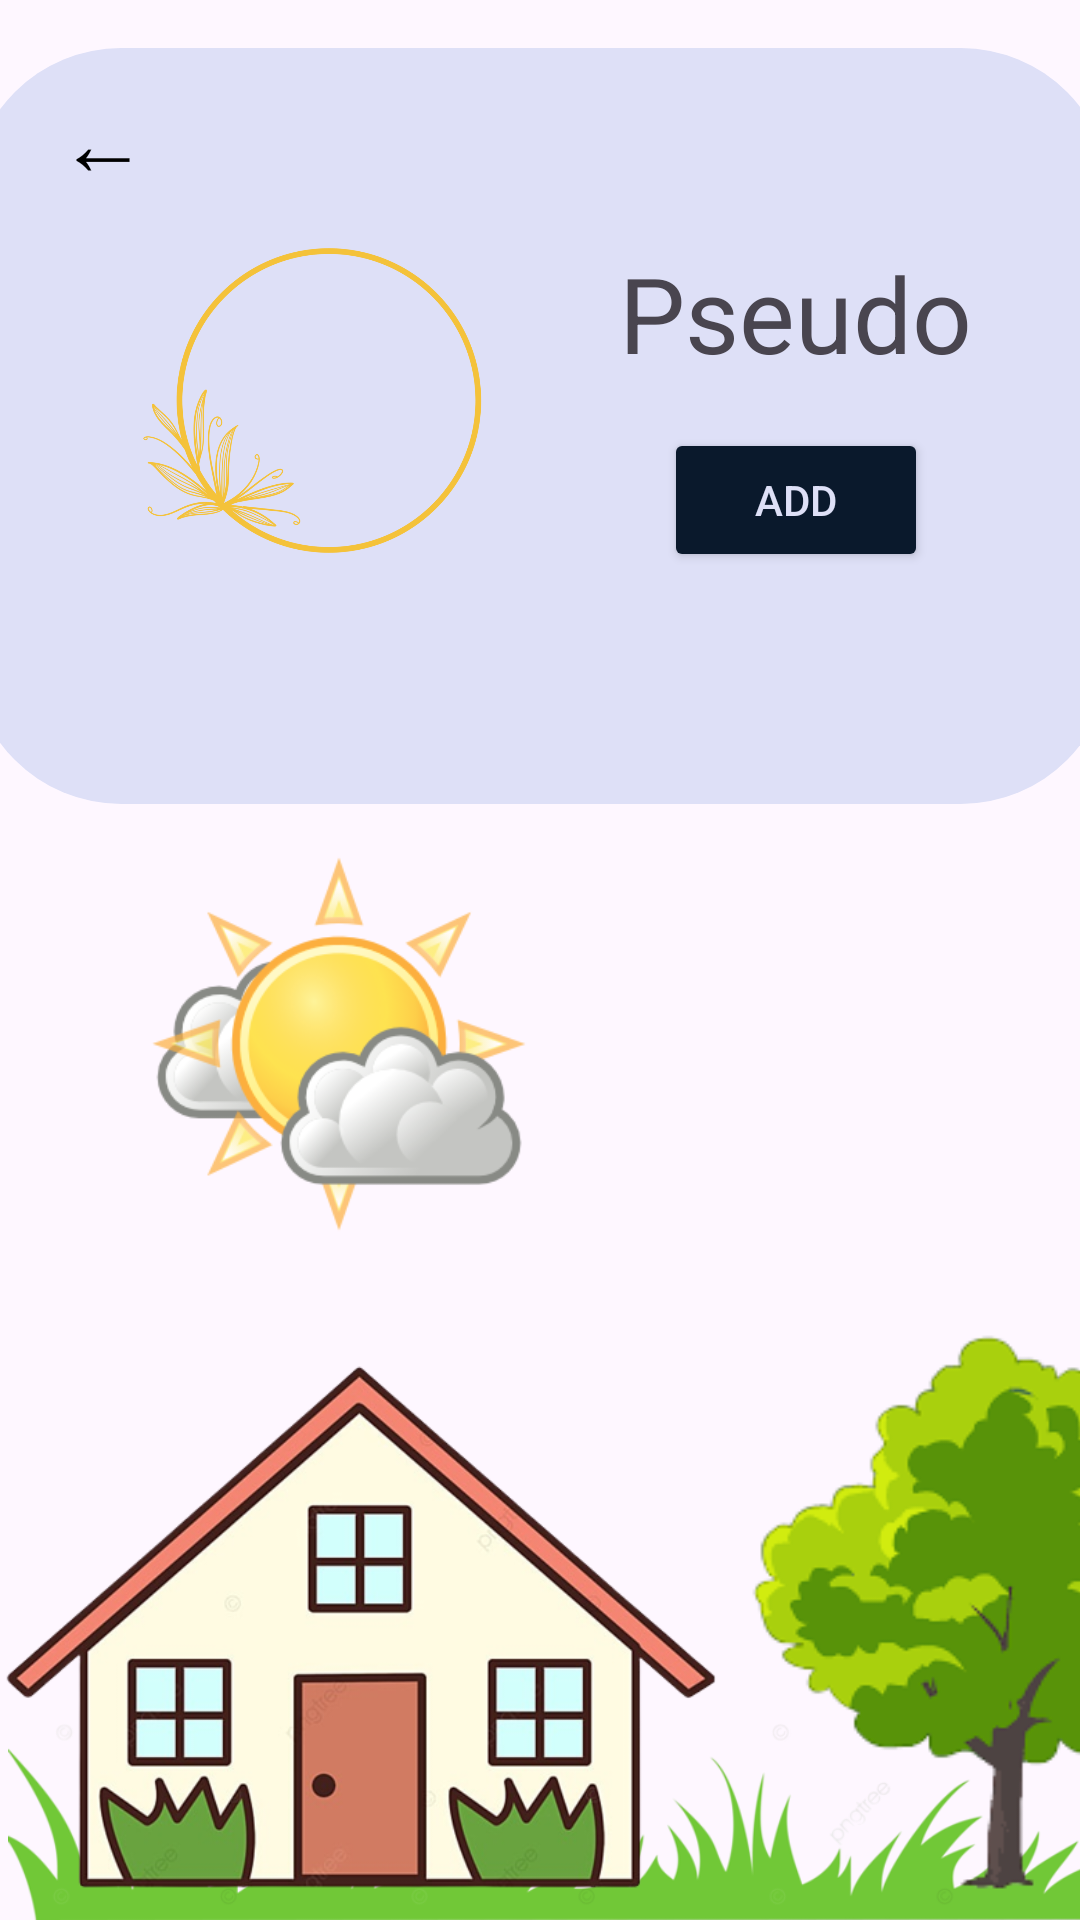

Named icons in this screenshot (1080px x 1920px) and their bounding boxes, (x1, y1, x2, y2):
cadre: (143, 248, 481, 553)
